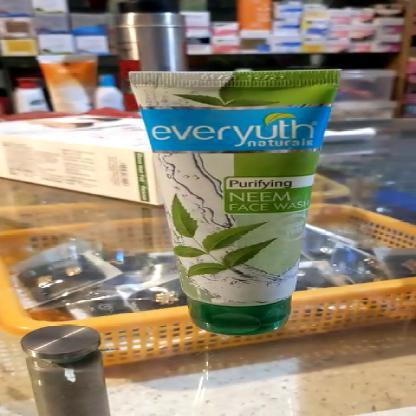EY NATURALS NEEM FACE WASH AY 50G: (134, 66, 332, 334)
